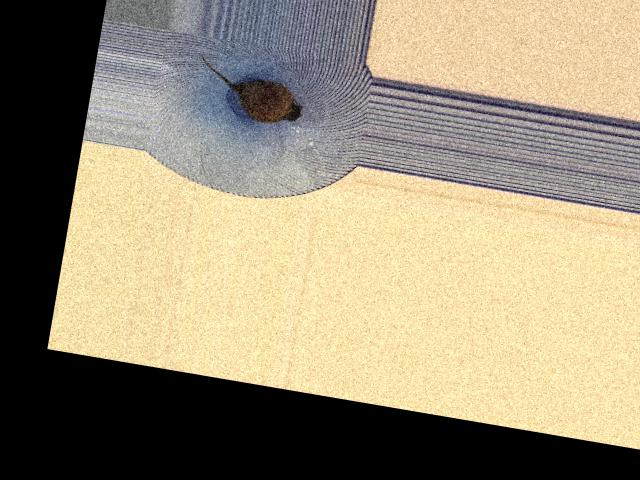beet: (193, 54, 309, 127)
